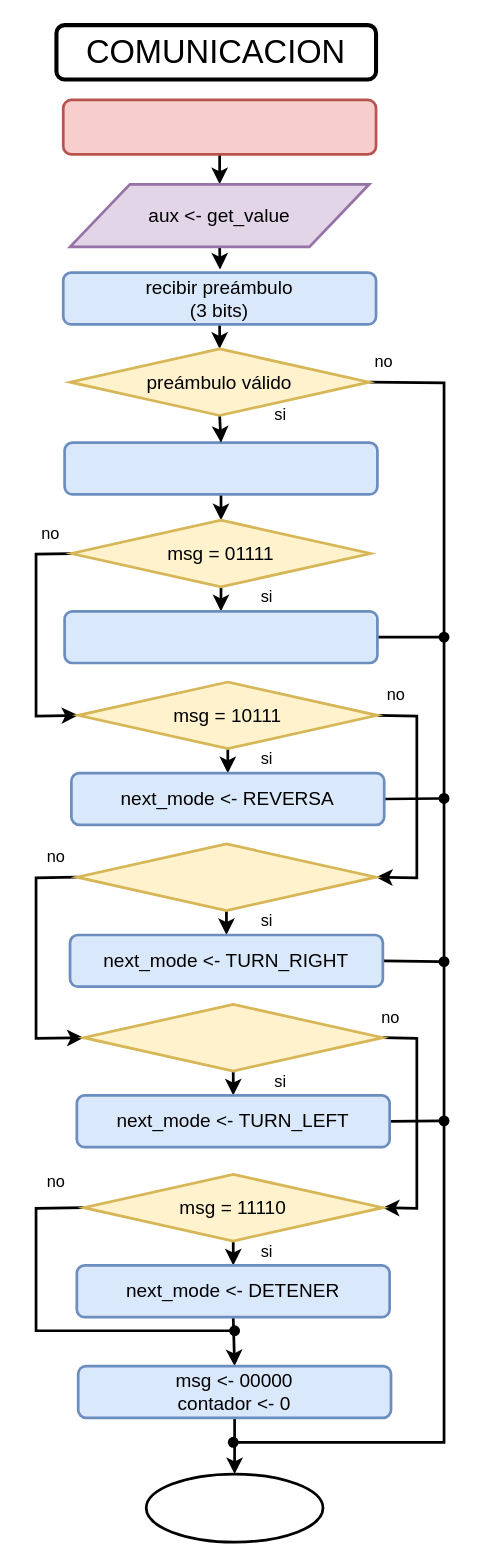
Image size: 479x1567. Some labels were removed from this diagram. Each missing label, with the centre of its shape:
"FIN" goes at point 234,1507.
"INTERRUPCIÓN (temporizador de 2.2 ms)" goes at point 219,126.
"msg = 11011" goes at point 226,876.
"msg = 11101" goes at point 233,1037.
"next_mode <- ADELANTE" goes at point 220,636.
"recibir mensaje (5 bits)" goes at point 220,468.
